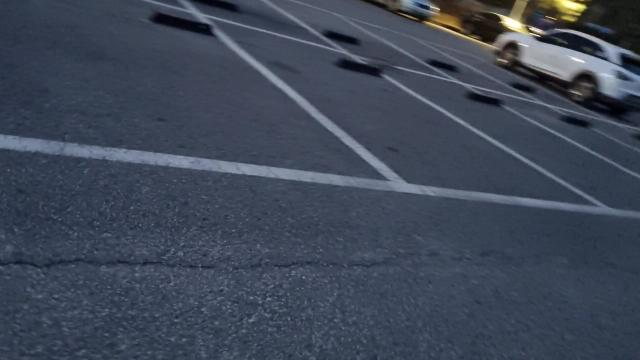empty: (198, 5, 584, 211), (354, 55, 640, 224), (470, 86, 640, 178)
